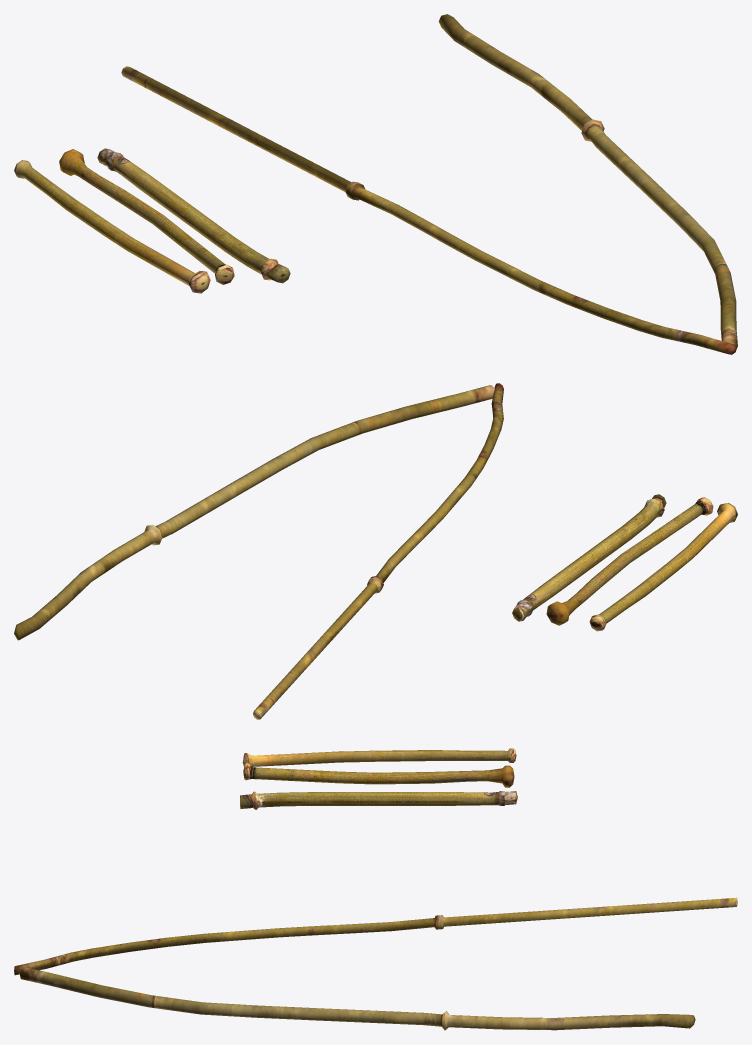
File: mahuang.FBX
3 renders of one model, top to bottom at view 1: azimuth 30°, elevation 25°; view 2: azimuth 150°, elevation 25°; view 3: azimuth 270°, elevation 25°, orthographic. The views are drawn at different scales.
Parts seen in each view (by area): view 1: Cylinder004, Cylinder005, Cylinder003, Cylinder001, Cylinder002; view 2: Cylinder005, Cylinder004, Cylinder003, Cylinder002, Cylinder001; view 3: Cylinder005, Cylinder004, Cylinder003, Cylinder002, Cylinder001.
Boxes of the visible parts, x1,y1,x2,y2 form: Cylinder004: (121, 66, 736, 354); Cylinder005: (438, 14, 737, 347); Cylinder003: (97, 148, 290, 283); Cylinder001: (14, 160, 210, 293); Cylinder002: (59, 149, 234, 284); Cylinder005: (14, 385, 494, 640); Cylinder004: (253, 383, 503, 719); Cylinder003: (512, 494, 666, 621); Cylinder002: (546, 497, 713, 625); Cylinder001: (589, 503, 737, 631); Cylinder005: (19, 967, 695, 1030); Cylinder004: (14, 897, 737, 975); Cylinder003: (240, 791, 517, 809); Cylinder002: (243, 762, 514, 787); Cylinder001: (242, 748, 516, 767).
Size of the model in its own units: 36.46 by 5.32 by 49.94.
Materials: 1 (1 with a texture image).
